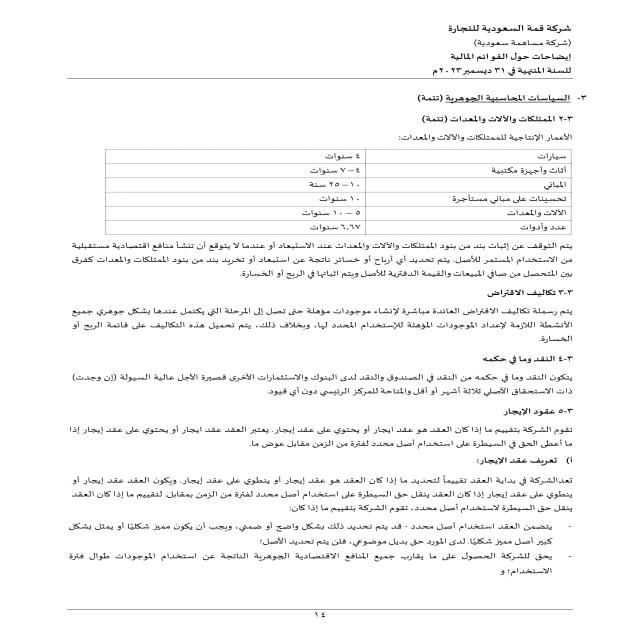notes: (446, 50, 578, 64)
table: (53, 144, 580, 239)
